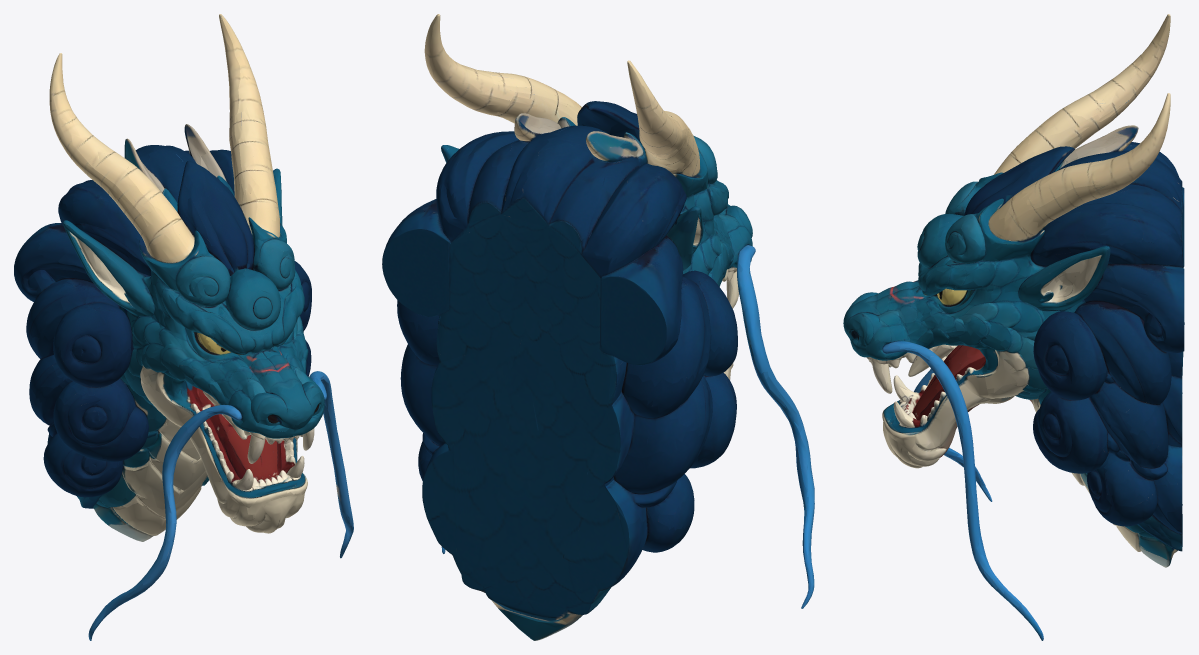
File: dragon_v5_head.glb
3 renders of one model, left to right at view 1: azimuth 30°, elevation 25°; view 2: azimuth 150°, elevation 25°; view 3: azimuth 270°, elevation 25°, orthographic. The views are drawn at different scales.
Bounding box in the file's own units: 1.1 × 1.91 × 1.14.
1 material, 1 textured.
